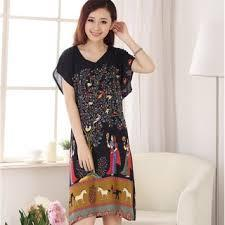dress: (54, 45, 137, 225)
